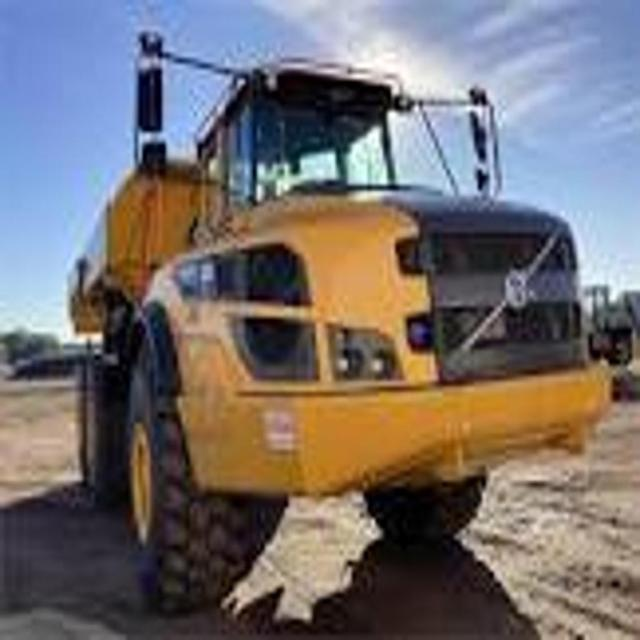dump_truck: (62, 14, 611, 618)
